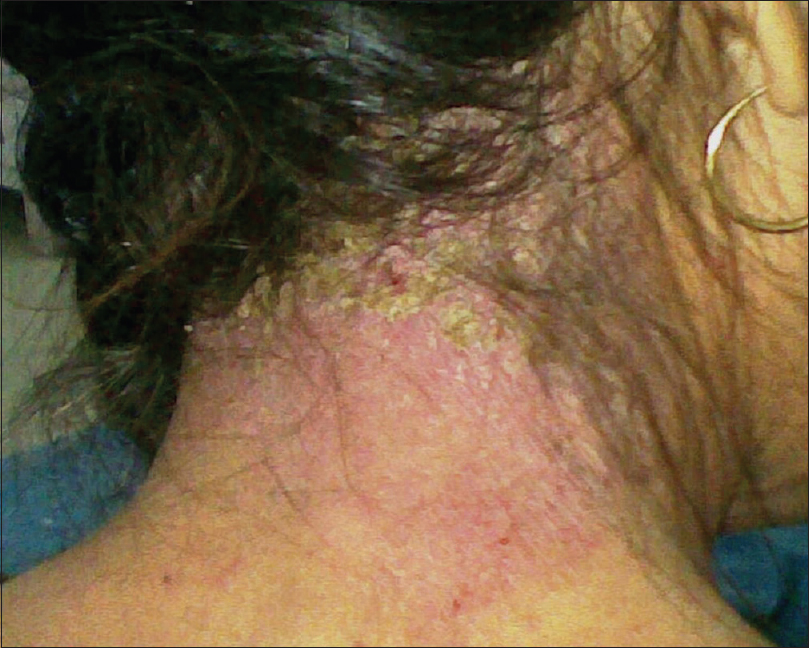Eczema: (183, 28, 666, 590)
